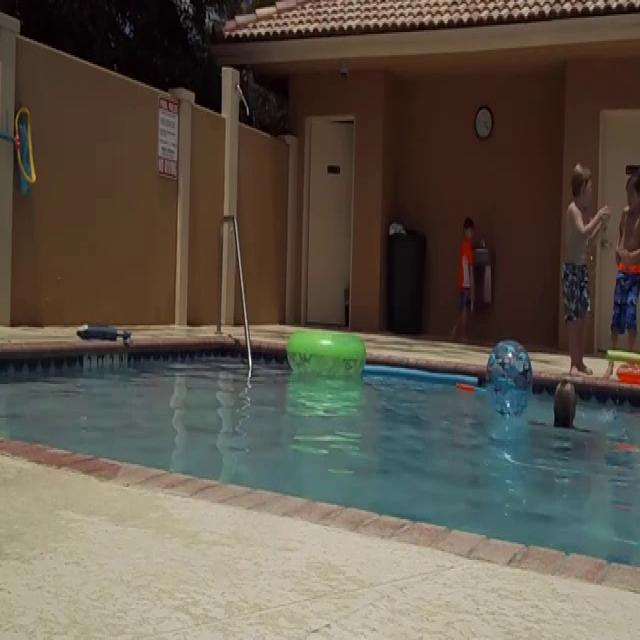adult: (535, 376, 596, 472)
child: (607, 166, 640, 382), (564, 158, 594, 374), (452, 206, 475, 345)
